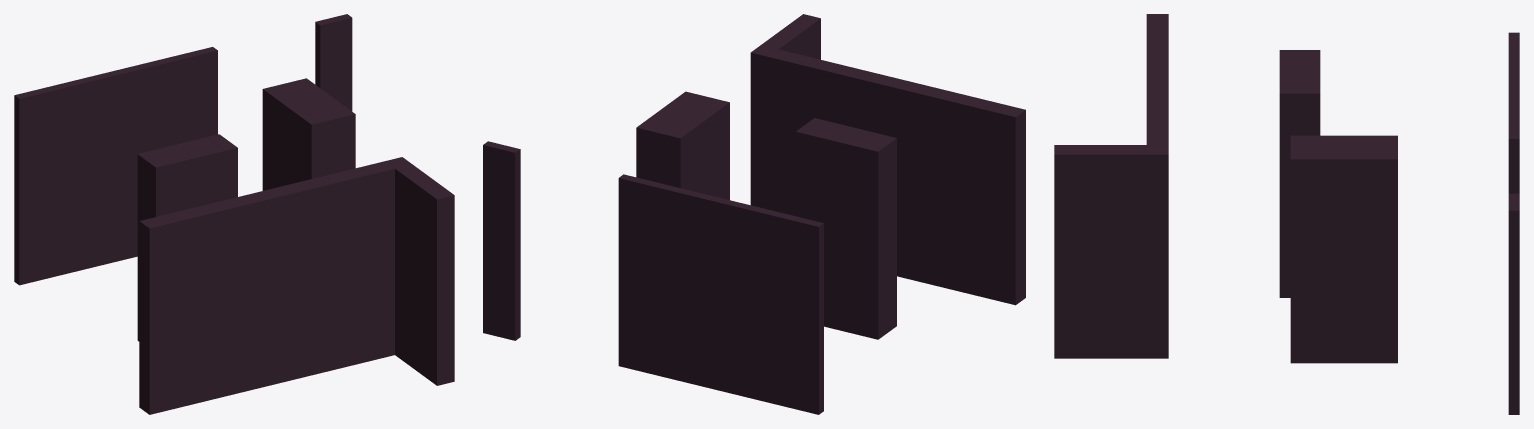
File: Chanks-4.obj
The picture shows the model from 3 angles, left to right: view 1: azimuth 30°, elevation 25°; view 2: azimuth 150°, elevation 25°; view 3: azimuth 270°, elevation 25°; orthographic projection. The views are drawn at different scales.
Bounding box in the file's own units: 12.6 × 6.1 × 12.6.
Materials: 1 (1 with a texture image).
